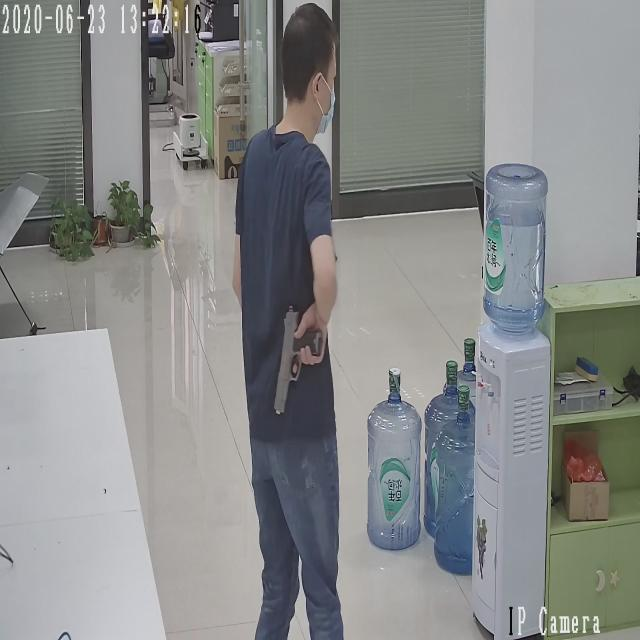gun-knife-thesis - v11 Yolov5 augmented: (277, 301, 323, 419)
